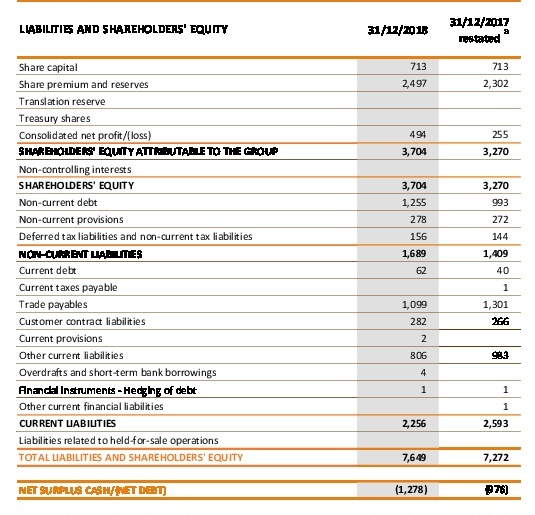table: (0, 0, 535, 515)
